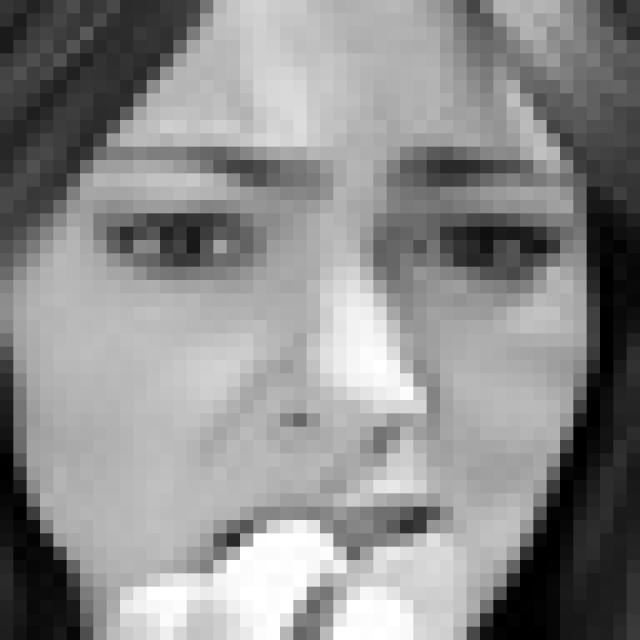fear: (84, 117, 578, 582)
